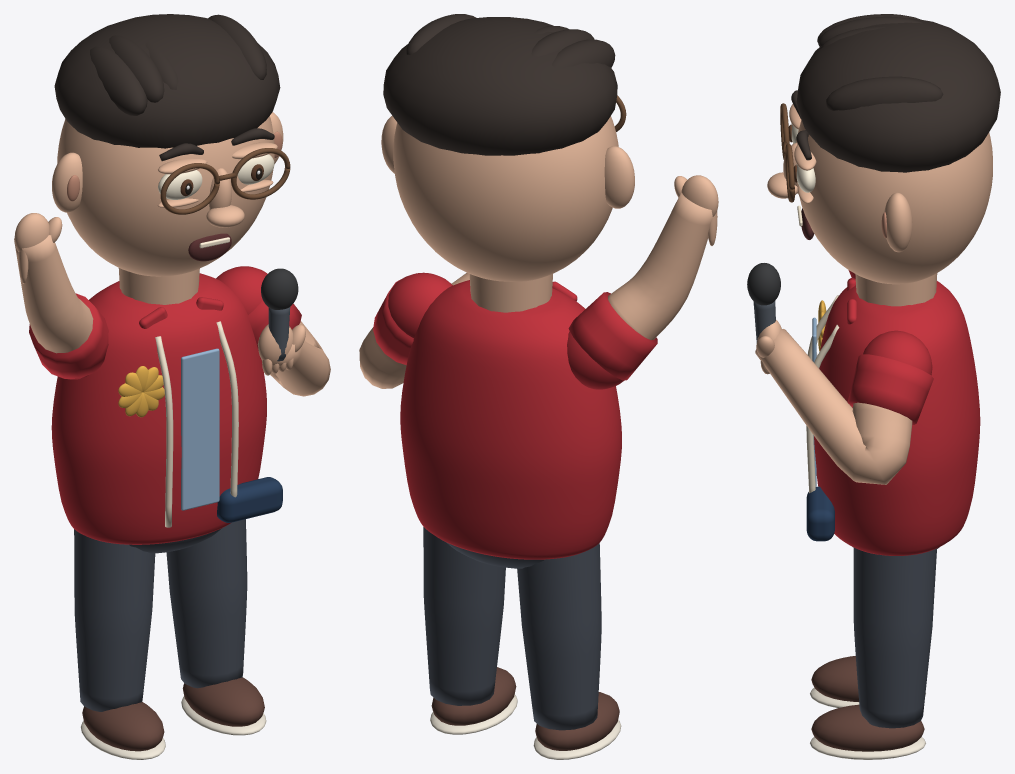
Rendered from chief.glb.
3 renders of one model, left to right at view 1: azimuth 30°, elevation 25°; view 2: azimuth 150°, elevation 25°; view 3: azimuth 270°, elevation 25°, orthographic. The views are drawn at different scales.
Visible parts, largest first — view 1: Torso, HairDome, SculptedHead, TrouserLeg, TrouserLeg.001, VestOpening, Arm, Shoe, Shoe.001, ShortSleeve, Arm.001, Neck (+24 smaller); view 2: Torso, SculptedHead, HairDome, TrouserLeg, TrouserLeg.001, Arm, ShortSleeve, Neck, ShoulderCap.001, Shoe, Shoe.001, Arm.001 (+10 smaller); view 3: Torso, HairDome, SculptedHead, TrouserLeg.001, Arm.001, ShortSleeve.001, Shoe.001, CombedQuiff.007, Neck, ShoulderCap.001, Shoe, WaistPouch (+8 smaller).
Part boxes in pixels (x1,y1,x2,y2): Torso: [51, 273, 266, 544]; HairDome: [54, 14, 280, 148]; SculptedHead: [57, 116, 274, 276]; TrouserLeg: [74, 529, 155, 711]; TrouserLeg.001: [166, 519, 247, 688]; VestOpening: [181, 348, 219, 510]; Arm: [14, 235, 93, 353]; Shoe: [82, 702, 164, 751]; Shoe.001: [182, 677, 264, 726]; ShortSleeve: [29, 293, 108, 378]; Arm.001: [257, 321, 330, 396]; Neck: [118, 268, 199, 304]; Torso: [400, 280, 621, 559]; SculptedHead: [393, 116, 618, 281]; HairDome: [383, 17, 617, 155]; TrouserLeg: [517, 543, 601, 730]; TrouserLeg.001: [423, 527, 505, 705]; Arm: [608, 192, 712, 339]; ShortSleeve: [568, 292, 657, 380]; Neck: [469, 274, 552, 312]; ShoulderCap.001: [388, 272, 452, 338]; Shoe: [535, 692, 619, 750]; Shoe.001: [431, 667, 516, 725]; Arm.001: [359, 273, 469, 388]; Torso: [814, 281, 980, 555]; HairDome: [796, 18, 1000, 172]; SculptedHead: [796, 120, 992, 284]; TrouserLeg.001: [853, 547, 936, 728]; Arm.001: [755, 329, 912, 484]; ShortSleeve.001: [847, 354, 933, 424]; Shoe.001: [811, 704, 924, 751]; CombedQuiff.007: [825, 76, 943, 110]; Neck: [855, 273, 937, 306]; ShoulderCap.001: [863, 330, 932, 375]; Shoe: [811, 656, 858, 701]; WaistPouch: [806, 486, 834, 541].
Bounding box in the file's own units: 1.21 × 2.42 × 0.8061.
